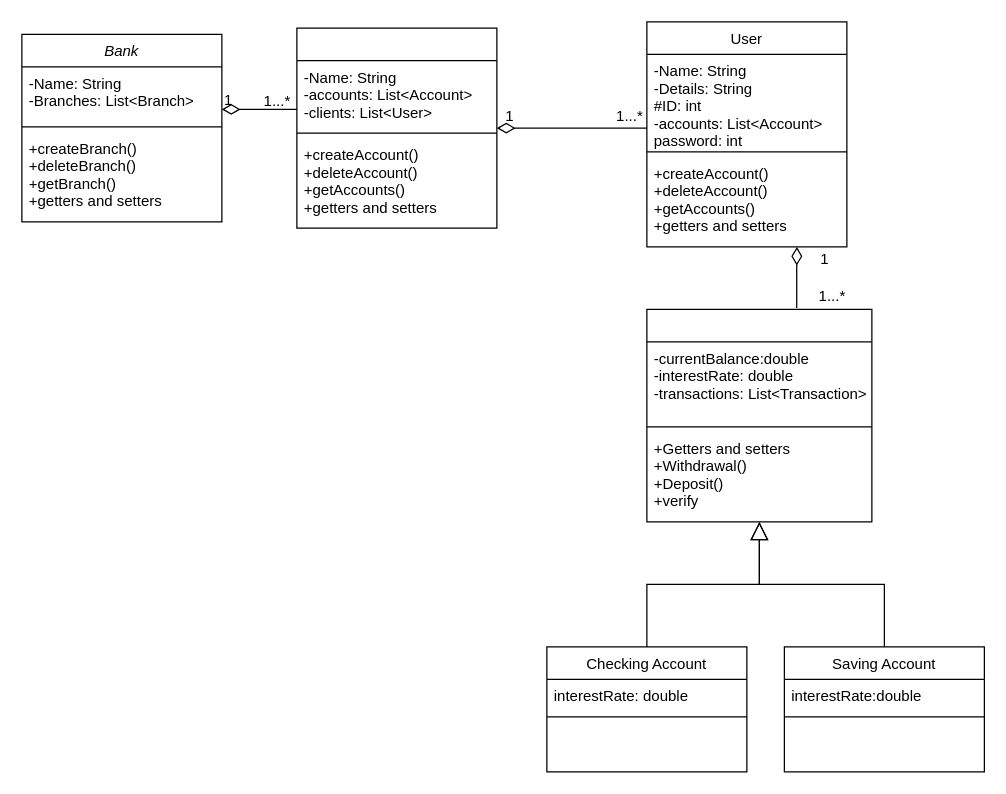
Some shapes in this 1006 by 794 pixel diagram are drawn without their labels. Here are the shapes that lost their labels. From the top down, the box of each, then its label:
(296, 27, 497, 228): Branch
(646, 308, 872, 522): Account
